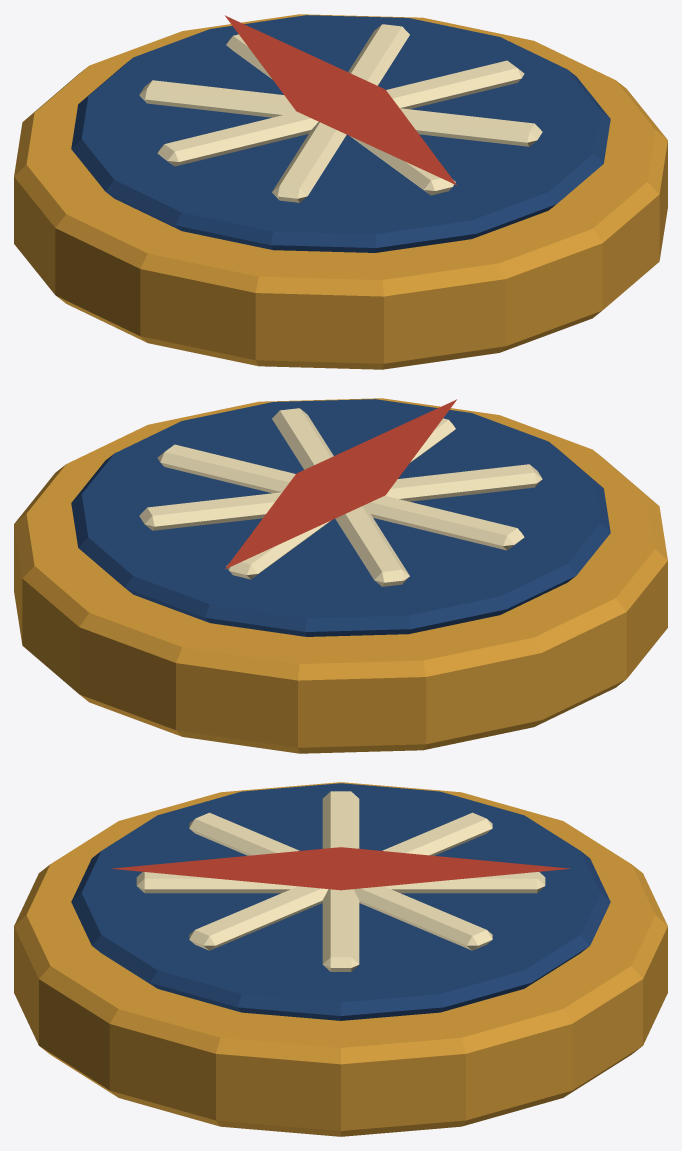
File: compass.glb
The picture shows the model from 3 angles, top to bottom: view 1: azimuth 30°, elevation 25°; view 2: azimuth 150°, elevation 25°; view 3: azimuth 270°, elevation 25°; orthographic projection.
Parts seen in each view (by area): view 1: compass__body__brass, compass__body__navy, compass__body__linen, compass__body__red; view 2: compass__body__brass, compass__body__navy, compass__body__linen, compass__body__red; view 3: compass__body__brass, compass__body__navy, compass__body__linen, compass__body__red.
Boxes of the visible parts, x1,y1,x2,y2 form: compass__body__brass: (14, 14, 667, 369); compass__body__navy: (71, 15, 610, 252); compass__body__linen: (139, 24, 542, 202); compass__body__red: (225, 15, 456, 185); compass__body__brass: (14, 398, 667, 753); compass__body__navy: (71, 399, 610, 636); compass__body__linen: (139, 408, 542, 586); compass__body__red: (225, 399, 456, 569); compass__body__brass: (14, 782, 667, 1136); compass__body__navy: (71, 783, 610, 1020); compass__body__linen: (136, 791, 545, 971); compass__body__red: (111, 847, 570, 890).
Size of the model in its own units: 0.32 by 0.073 by 0.32.
